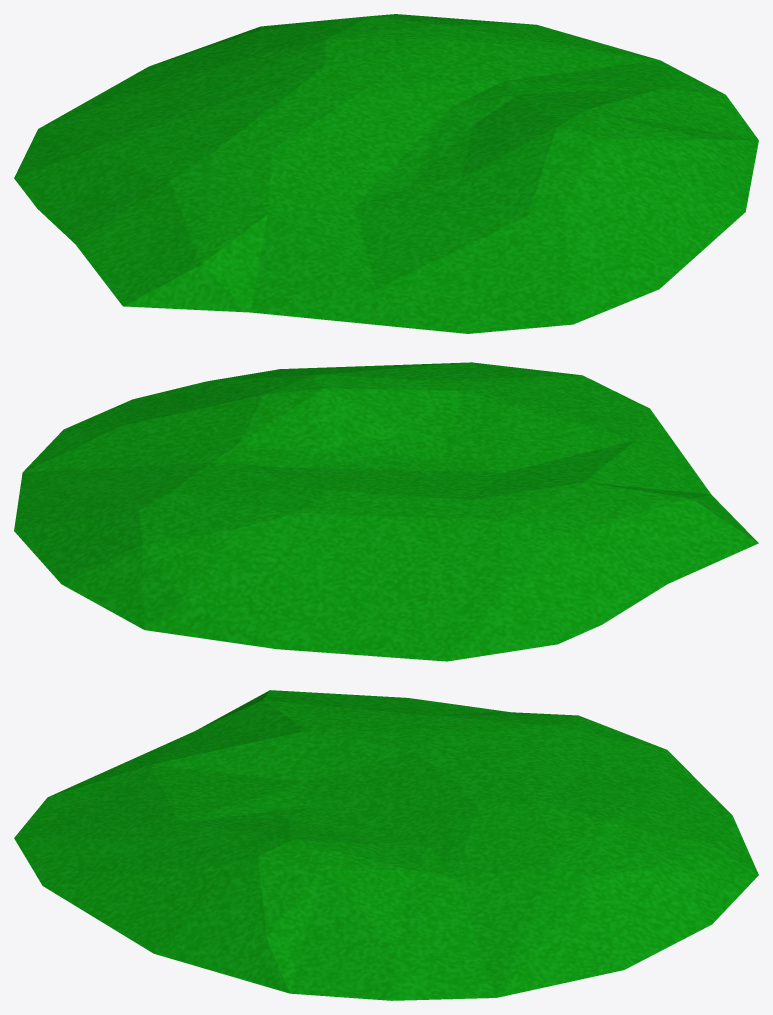
File: Grassland Add on.fbx
3 renders of one model, top to bottom at view 1: azimuth 30°, elevation 25°; view 2: azimuth 150°, elevation 25°; view 3: azimuth 270°, elevation 25°, orthographic. The views are drawn at different scales.
Parts seen in each view (by area): view 1: Grassland; view 2: Grassland; view 3: Grassland.
Boxes of the visible parts, <box> form: Grassland: <box>14,14,758,333</box>; Grassland: <box>14,362,758,661</box>; Grassland: <box>14,690,758,1000</box>.
Bounding box in the file's own units: 1.66 × 0.1565 × 1.67.
Materials: 1 (1 with a texture image).
